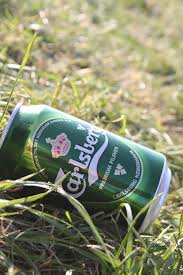can: (1, 98, 173, 236)
